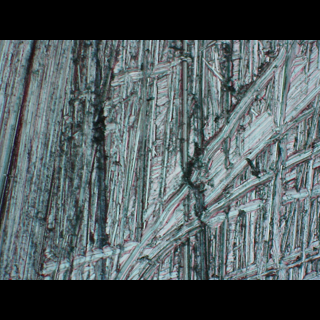d: (108, 51, 319, 279)
